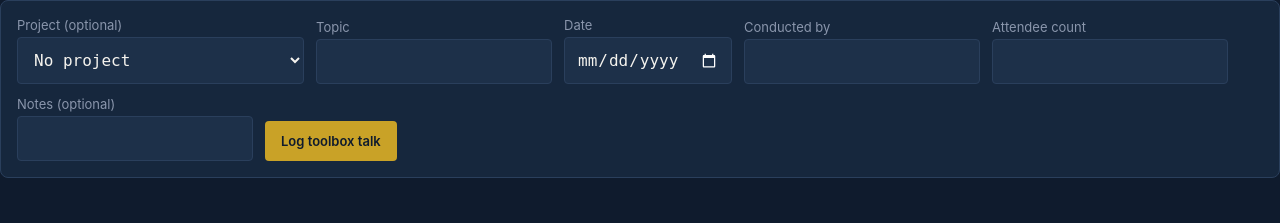
Scenario: CreateToolboxTalkForm › shows a generic error message when the failure has none
Step 1. Type "Working at heights" into the field labelled "Topic" → (434, 62), box [316, 39, 552, 84]
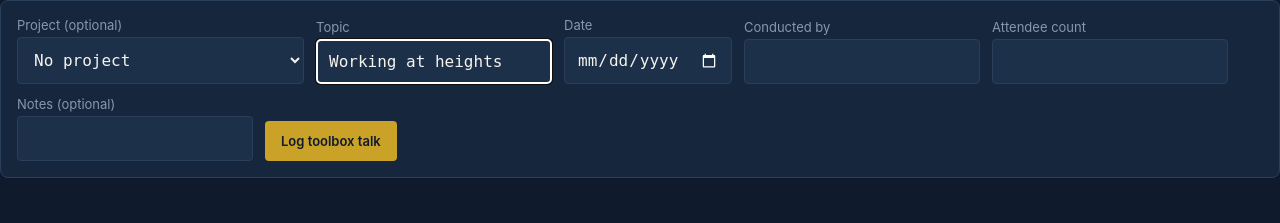
Step 2. Type "2026-08-01" into the date field labelled "Date" → (648, 60), box [564, 37, 732, 84]
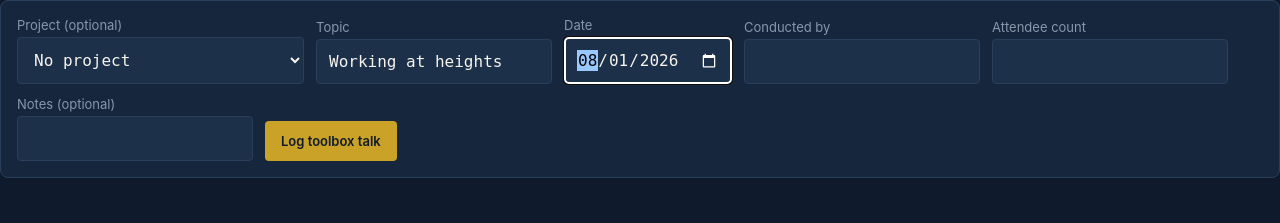
Step 3. Type "Site Supervisor A" into the field labelled "Conducted by" → (862, 62), box [744, 39, 980, 84]
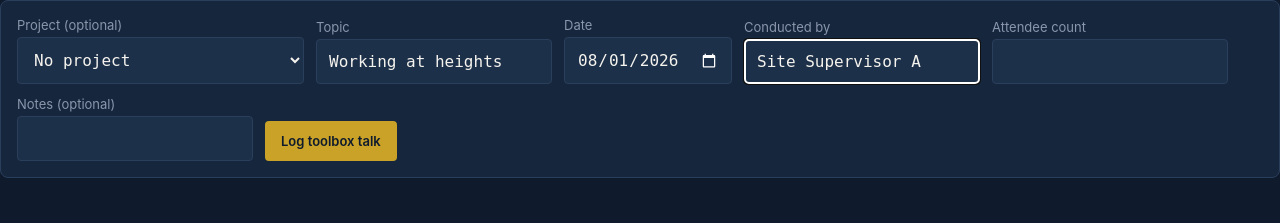
Step 4. Type "12" into the number field labelled "Attendee count" → (1110, 62), box [992, 39, 1228, 84]
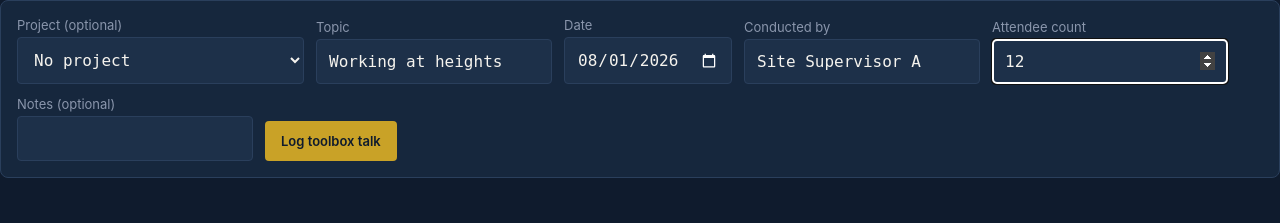
Step 5. Click the button "Log toolbox talk" → (331, 141), box [265, 121, 397, 161]
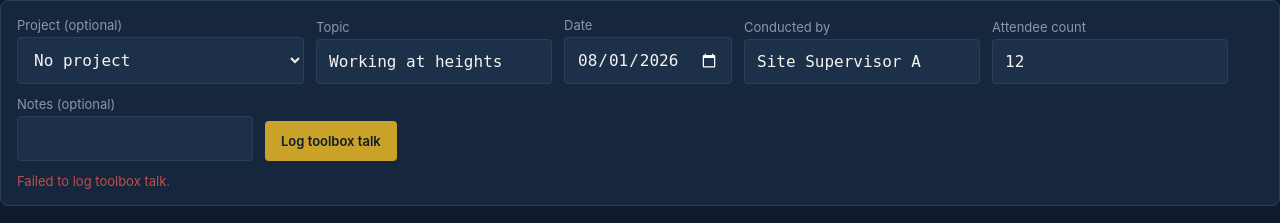
Expected: the text "Failed to log toolbox talk." is shown, [17, 173, 170, 189]
